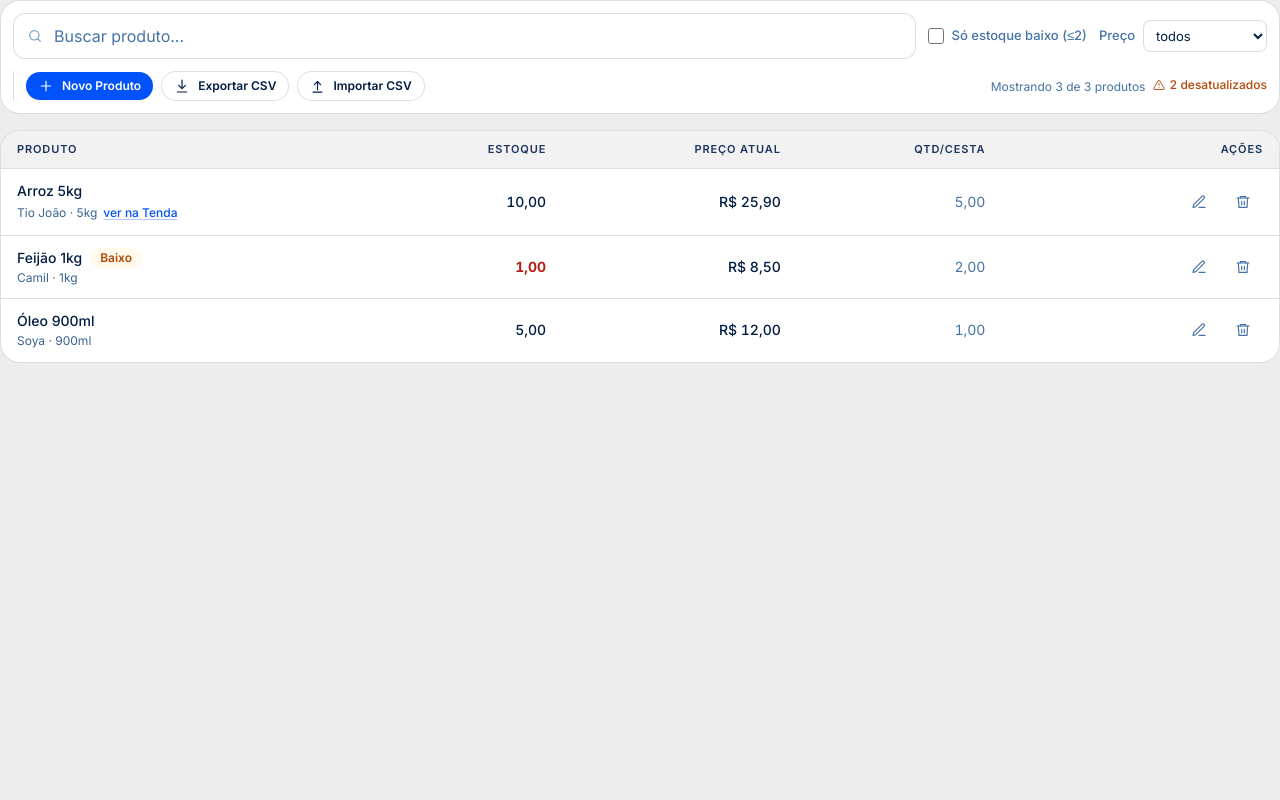
Test: EstoqueClient › edita produto e atualiza a linha sem recarregar a página
Click the button with test id "editar-produto-1" at (1199, 202), box left=1179, top=188, right=1219, bottom=216
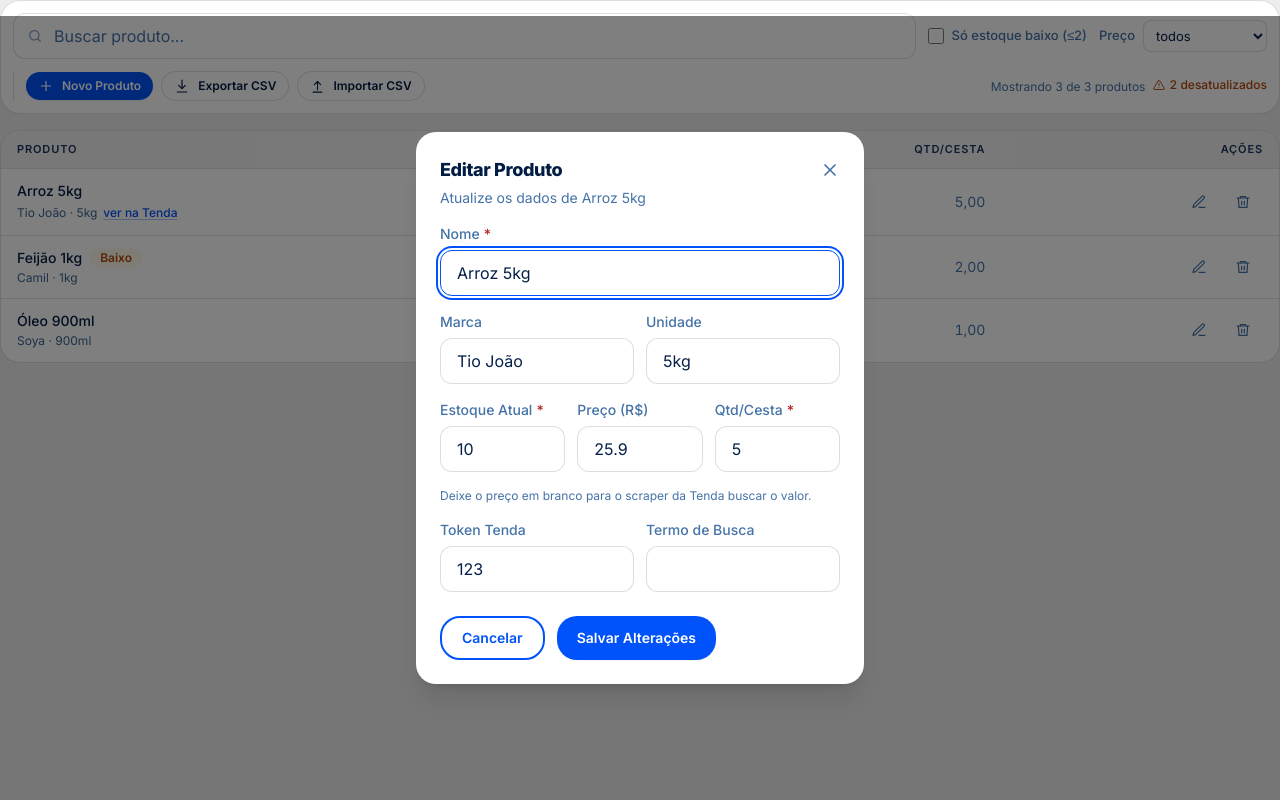
Check: the field labelled "Nome*" holds "Arroz 5kg"
Check: the field labelled "Marca" holds "Tio João", box left=440, top=338, right=634, bottom=384
Replace the text in the field labelled "Nome*" with "Arroz Integral 5kg" at (640, 273), box left=440, top=250, right=840, bottom=296
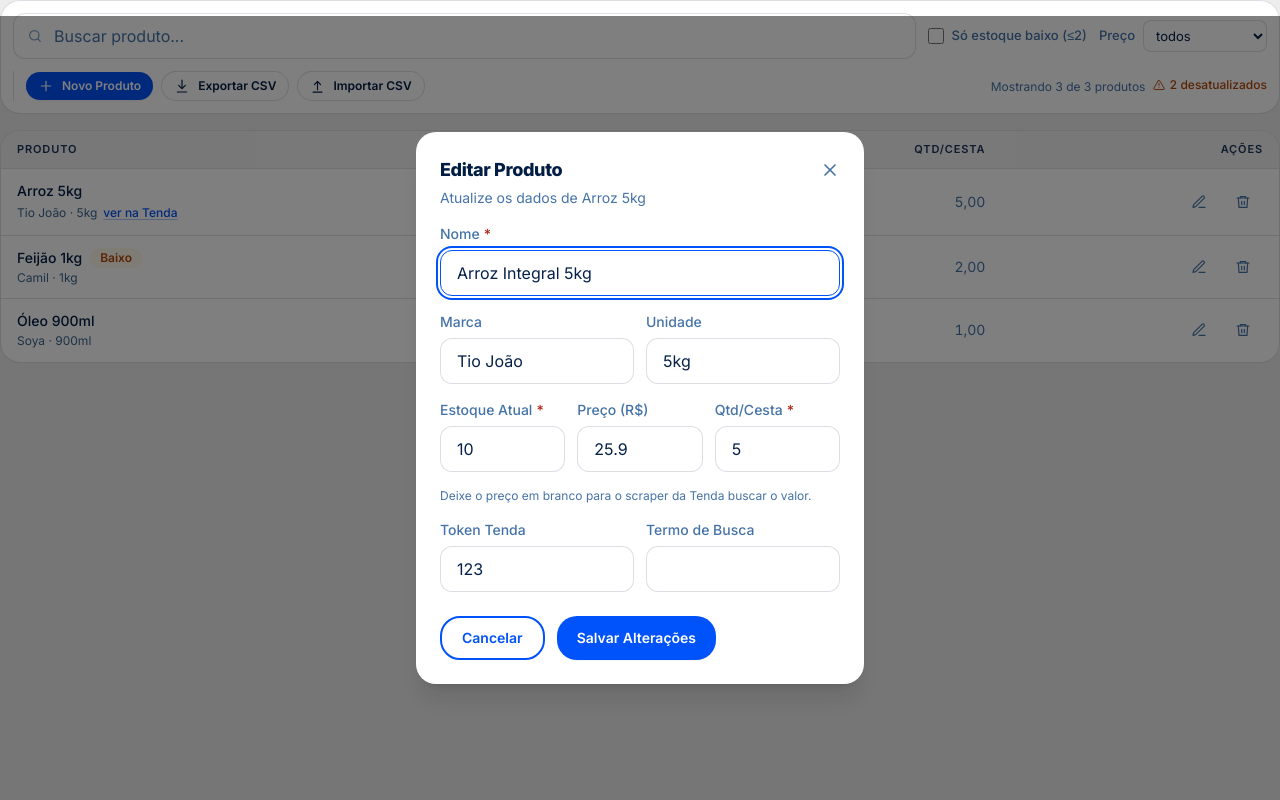
Submit the form with test id "form-editar-produto", box left=440, top=224, right=840, bottom=660
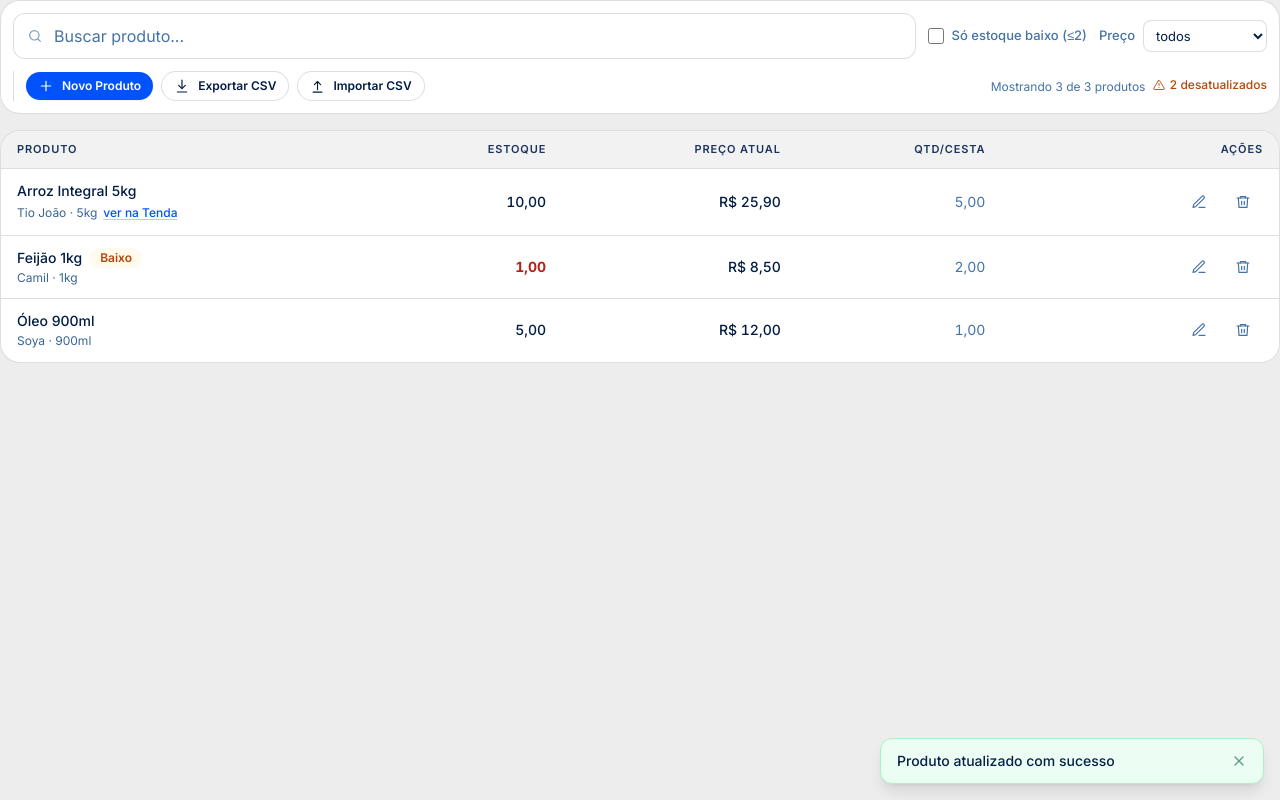
Check: the text "Arroz Integral 5kg" is shown, box left=17, top=180, right=136, bottom=200
Check: the text "Arroz 5kg" is gone
Check: the text "Produto atualizado com sucesso" is shown, box left=897, top=752, right=1115, bottom=769
